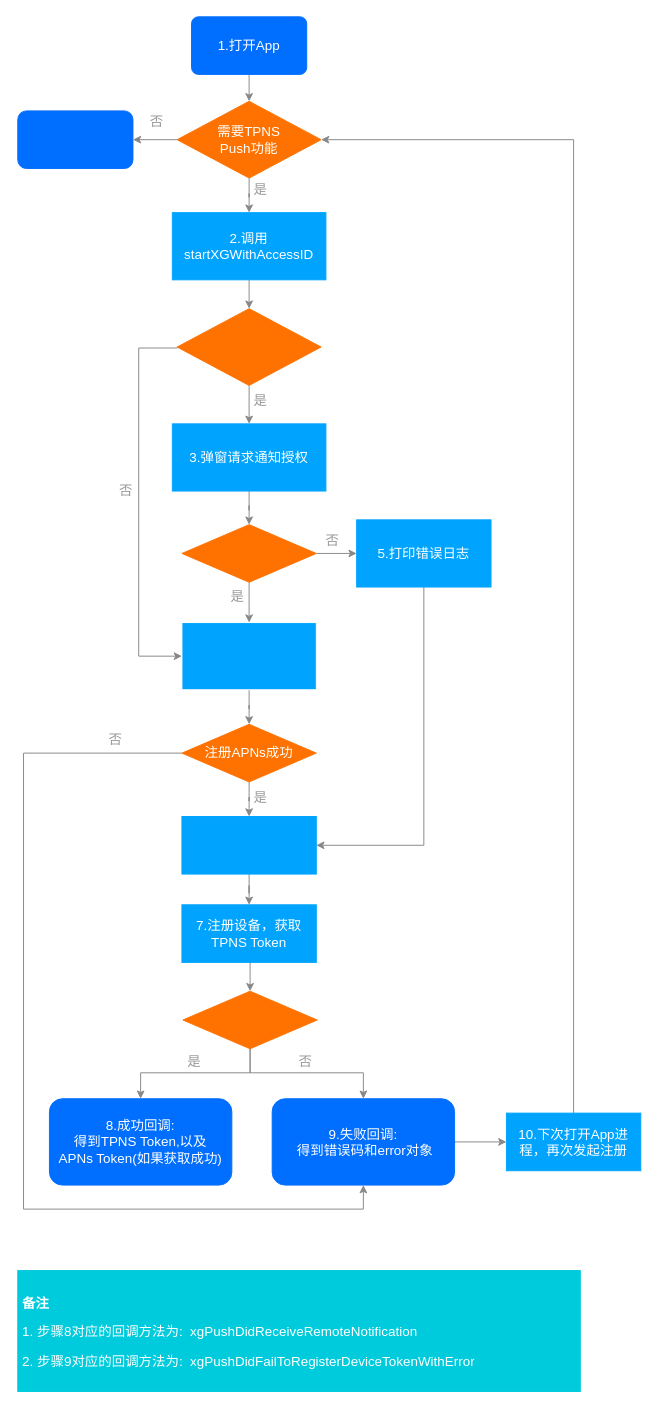
This 658x1408 diagram has some shape labels left out. The shapes that lost their labels are listed below. From the top down, each one's centre as x and y in pixels, then its label:
the point at 75,139: 流程结束
the point at 248,346: 是否安装App后 首次调用
the point at 248,553: 授权通过
the point at 248,656: 4.向苹果请求 APNs Token
the point at 248,845: 6.获取APNs Token 流程结束
the point at 249,1019: 是否注册成功
